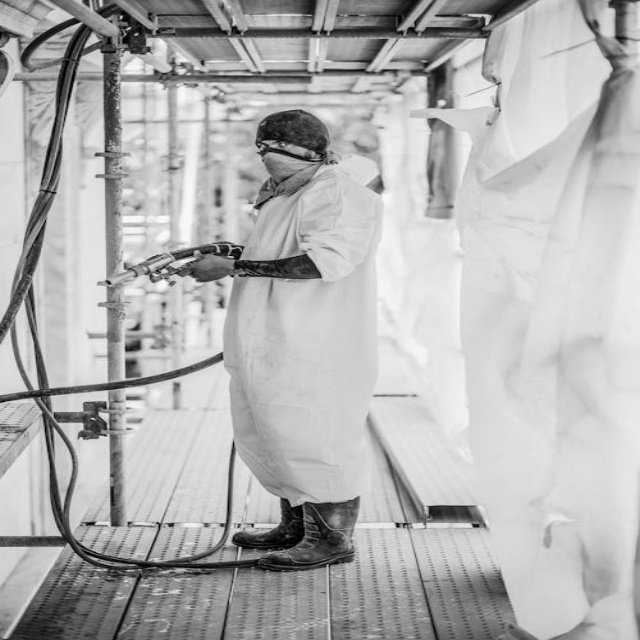Mascara: (259, 150, 316, 182)
Sin_gafas: (252, 137, 294, 152)
Sin_guantes: (184, 247, 237, 285)
